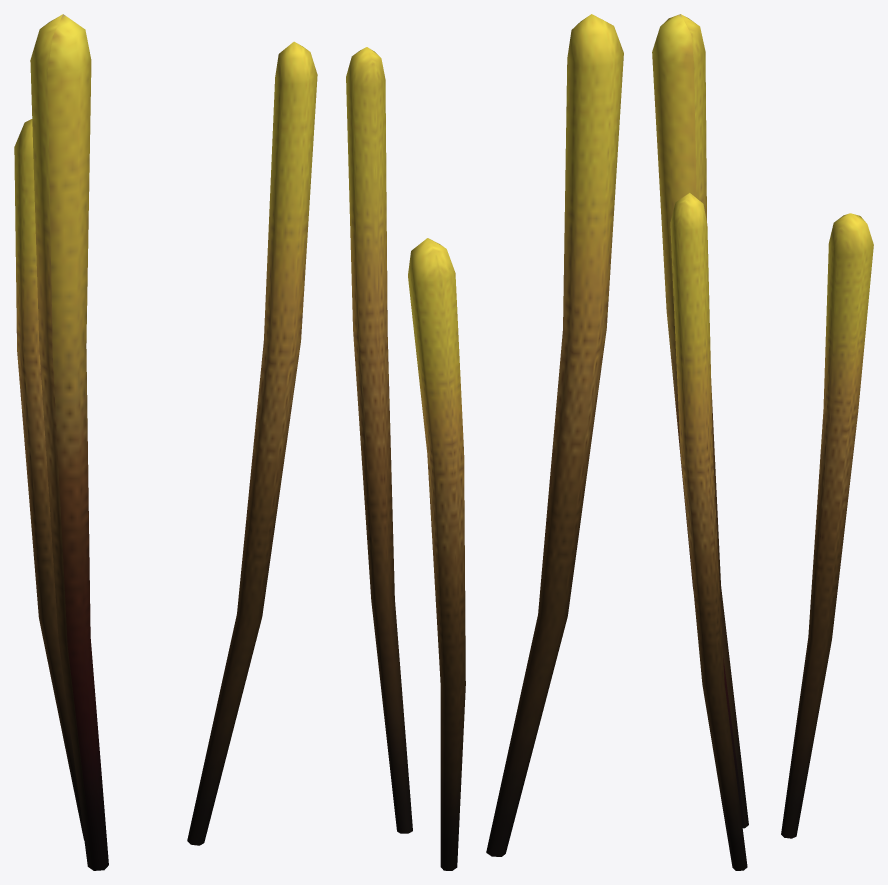
File: Coral_39a.FBX
The picture shows the model from 3 angles, left to right: view 1: azimuth 30°, elevation 25°; view 2: azimuth 150°, elevation 25°; view 3: azimuth 270°, elevation 25°; orthographic projection. The views are drawn at different scales.
Parts seen in each view (by area): view 1: Coral_39a; view 2: Coral_39a; view 3: Coral_39a.
Part boxes in pixels (<box>): Coral_39a: <box>14,14,317,870</box>; Coral_39a: <box>346,14,623,870</box>; Coral_39a: <box>652,14,873,870</box>.
Bounding box in the file's own units: 21.77 × 66.13 × 16.97.
